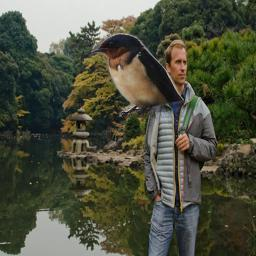Swallow: (91, 33, 184, 118)
